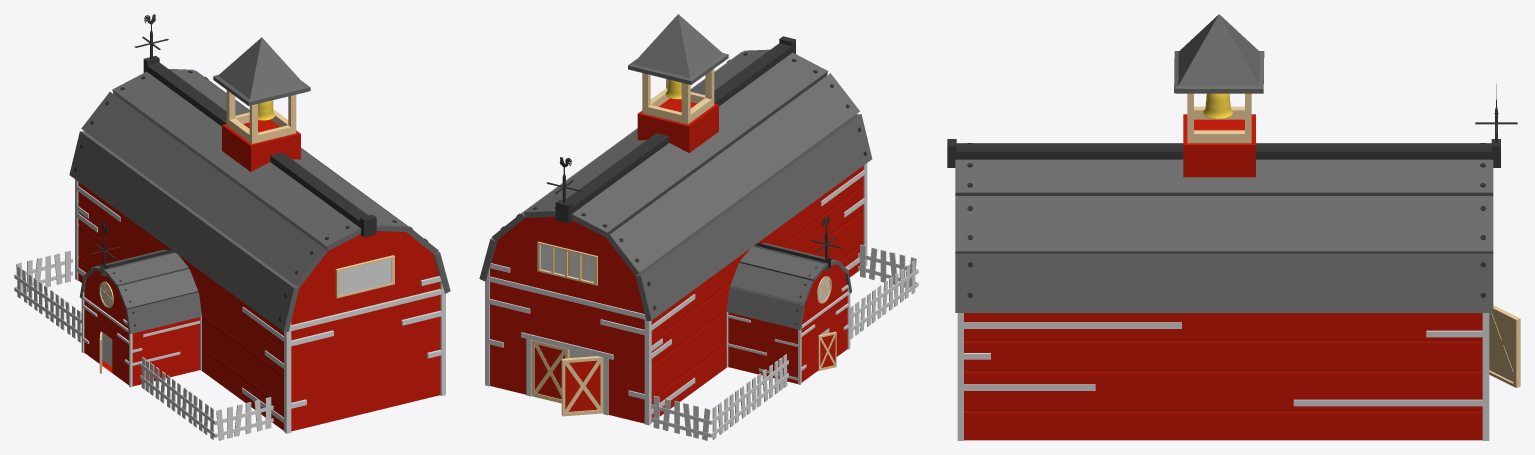
File: farm scenen1sep.fbx
The picture shows the model from 3 angles, left to right: view 1: azimuth 30°, elevation 25°; view 2: azimuth 150°, elevation 25°; view 3: azimuth 270°, elevation 25°; orthographic projection. The views are drawn at different scales.
Visible parts, largest first — view 1: Cube, Cube.031, Cube.037, Cube.006, Cube.001, Cone, Cube.009, Cube.008, Cube.002, Cube.003, Cube.004; view 2: Cube, Cube.006, Cube.031, Cube.037, Cube.001, Cone, Cube.008, Cube.009, Cube.012, Cube.002, Cube.003, Cube.013 (+4 smaller); view 3: Cube, Cube.001, Cube.006, Cone, Cube.002, Cube.012, Cube.003, Circle.001.
Boxes of the visible parts, bbox=[...] form: Cube: bbox=[69, 69, 450, 431]; Cube.031: bbox=[84, 270, 199, 386]; Cube.037: bbox=[79, 249, 201, 333]; Cube.006: bbox=[75, 179, 445, 433]; Cube.001: bbox=[143, 56, 376, 237]; Cone: bbox=[213, 37, 310, 105]; Cube.009: bbox=[140, 357, 273, 440]; Cube.008: bbox=[14, 250, 81, 342]; Cube.002: bbox=[222, 119, 300, 171]; Cube.003: bbox=[226, 90, 296, 143]; Cube.004: bbox=[335, 255, 394, 298]; Cube: bbox=[479, 49, 872, 423]; Cube.006: bbox=[485, 163, 867, 425]; Cube.031: bbox=[728, 264, 847, 383]; Cube.037: bbox=[726, 243, 851, 329]; Cube.001: bbox=[555, 36, 795, 223]; Cone: bbox=[628, 14, 728, 84]; Cube.008: bbox=[651, 354, 788, 440]; Cube.009: bbox=[850, 244, 918, 339]; Cube.012: bbox=[561, 356, 603, 416]; Cube.002: bbox=[637, 98, 718, 152]; Cube.003: bbox=[642, 69, 714, 124]; Cube.013: bbox=[531, 340, 569, 403]; Cube: bbox=[955, 143, 1493, 440]; Cube.001: bbox=[947, 139, 1500, 167]; Cube.006: bbox=[957, 313, 1489, 440]; Cone: bbox=[1174, 14, 1264, 93]; Cube.002: bbox=[1183, 114, 1255, 177]; Cube.012: bbox=[1489, 305, 1520, 387]; Cube.003: bbox=[1187, 93, 1251, 143]; Circle.001: bbox=[1203, 93, 1232, 119].
Bounding box in the file's own units: 705 × 822 × 1121.
